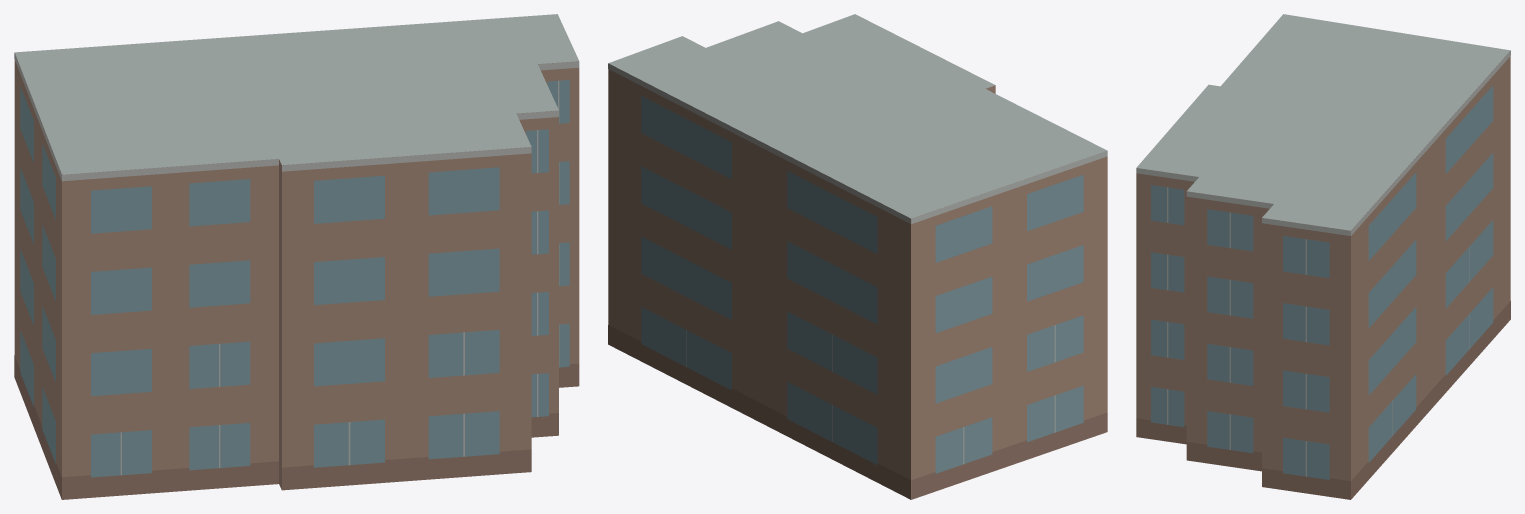
Rendered from survey-upis-32753653.glb.
3 renders of one model, left to right at view 1: azimuth 30°, elevation 25°; view 2: azimuth 150°, elevation 25°; view 3: azimuth 270°, elevation 25°, orthographic. The views are drawn at different scales.
Parts seen in each view (by area): view 1: survey-upis-32753653.tmp; view 2: survey-upis-32753653.tmp; view 3: survey-upis-32753653.tmp.
Boxes of the visible parts, left/top/right/bottom form: survey-upis-32753653.tmp: left=14, top=14, right=579, bottom=499; survey-upis-32753653.tmp: left=608, top=14, right=1107, bottom=499; survey-upis-32753653.tmp: left=1136, top=14, right=1510, bottom=499.
Bounding box in the file's own units: 21.08 × 12.2 × 15.4.
